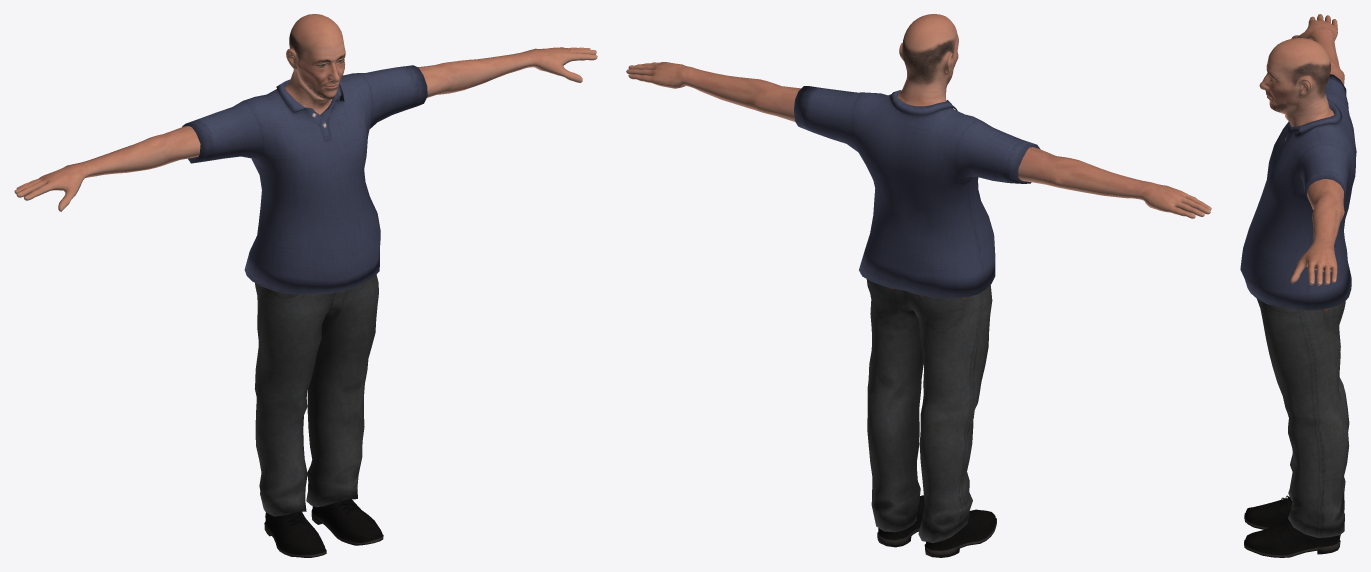
The model's file is A_M_Casual.obj.
The picture shows the model from 3 angles, left to right: view 1: azimuth 30°, elevation 25°; view 2: azimuth 150°, elevation 25°; view 3: azimuth 270°, elevation 25°; orthographic projection. The views are drawn at different scales.
Visible parts, largest first — view 1: Tops, Bottoms, Body, Shoes; view 2: Tops, Bottoms, Body, Shoes; view 3: Tops, Bottoms, Body, Shoes.
Part boxes in pixels (<box>): Tops: <box>182,65,427,294</box>; Bottoms: <box>254,275,378,516</box>; Body: <box>14,14,597,211</box>; Shoes: <box>264,499,383,557</box>; Tops: <box>794,86,1040,298</box>; Bottoms: <box>866,279,992,543</box>; Body: <box>626,14,1211,218</box>; Shoes: <box>877,495,996,557</box>; Tops: <box>1240,74,1356,310</box>; Bottoms: <box>1257,299,1349,537</box>; Body: <box>1259,14,1344,285</box>; Shoes: <box>1244,495,1340,557</box>.
Size of the model in its own units: 211 by 180 by 38.24.
Materials: 1 (1 with a texture image).
